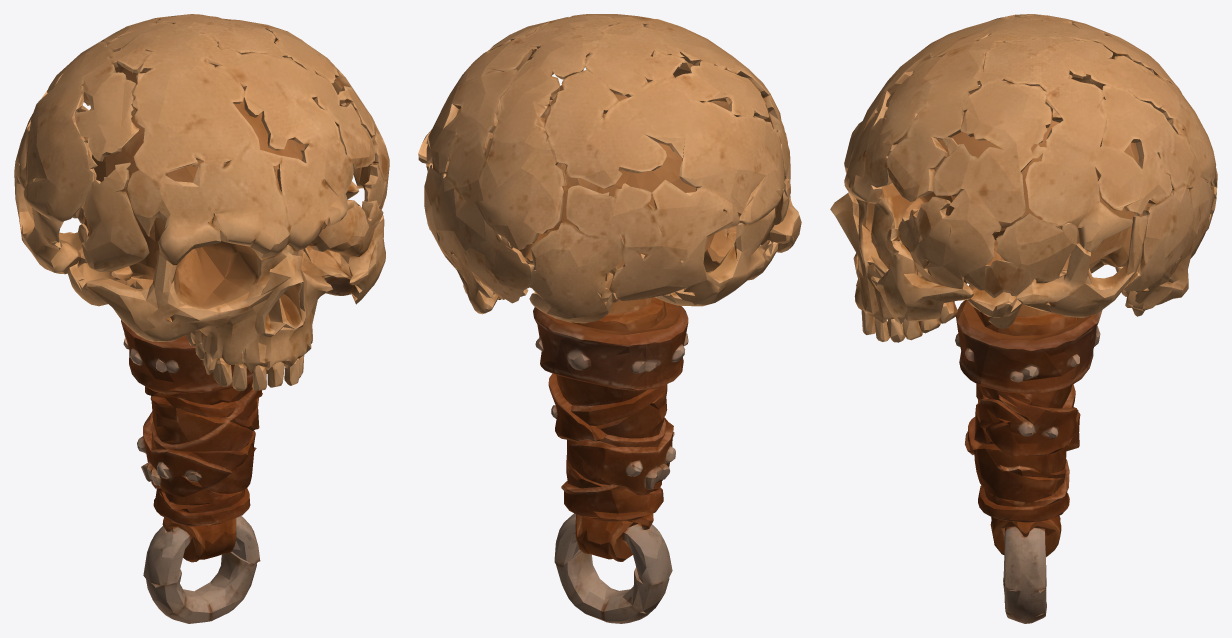
File: skull-mace.glb
The picture shows the model from 3 angles, left to right: view 1: azimuth 30°, elevation 25°; view 2: azimuth 150°, elevation 25°; view 3: azimuth 270°, elevation 25°; orthographic projection.
Visible parts, largest first — view 1: Mesh_0; view 2: Mesh_0; view 3: Mesh_0.
Part boxes in pixels (x1,y1,x2,y2): Mesh_0: [14, 14, 389, 623]; Mesh_0: [418, 14, 801, 623]; Mesh_0: [830, 14, 1217, 623].
Size of the model in its own units: 1.1 by 1.9 by 1.15.
1 material, 1 textured.
